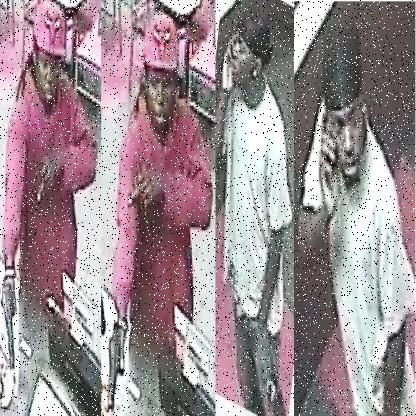pistol: (97, 308, 129, 415), (1, 262, 24, 370)
